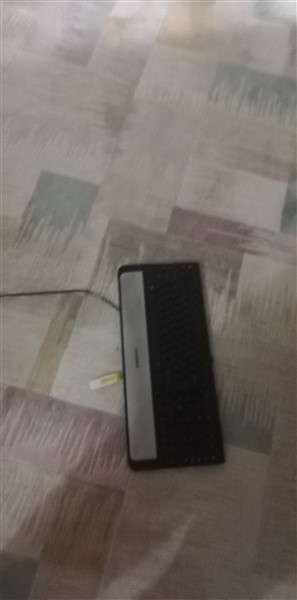flash disk: (85, 371, 125, 390)
klavye: (120, 267, 222, 465)
